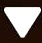dialog_hint_inverted: (3, 5, 42, 39)
